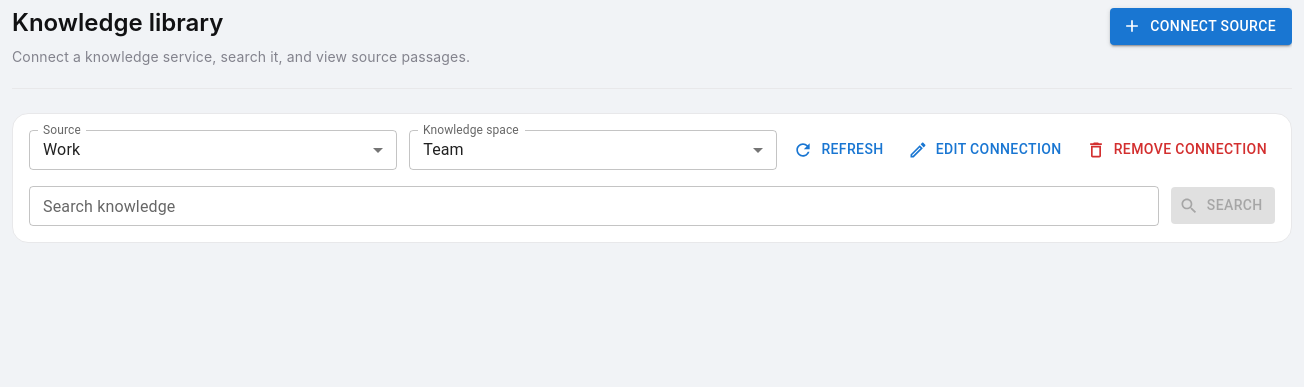
Test: knowledge sources › connects to a saved source and displays its actual search results
Expected: the dropdown "Work" is shown, [43, 140, 80, 159]
Expected: the dropdown "Team" is shown, [423, 140, 464, 159]
Step 1. Type "budget" into the field labelled "Search knowledge" → [594, 206], box [29, 186, 1158, 226]
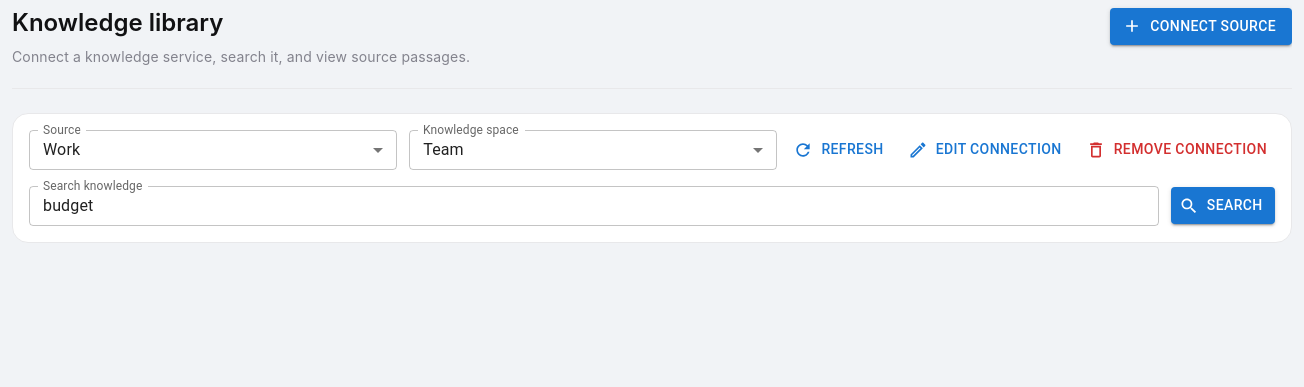
Step 2. Click the button "Search" → [1223, 206], box [1170, 187, 1275, 224]
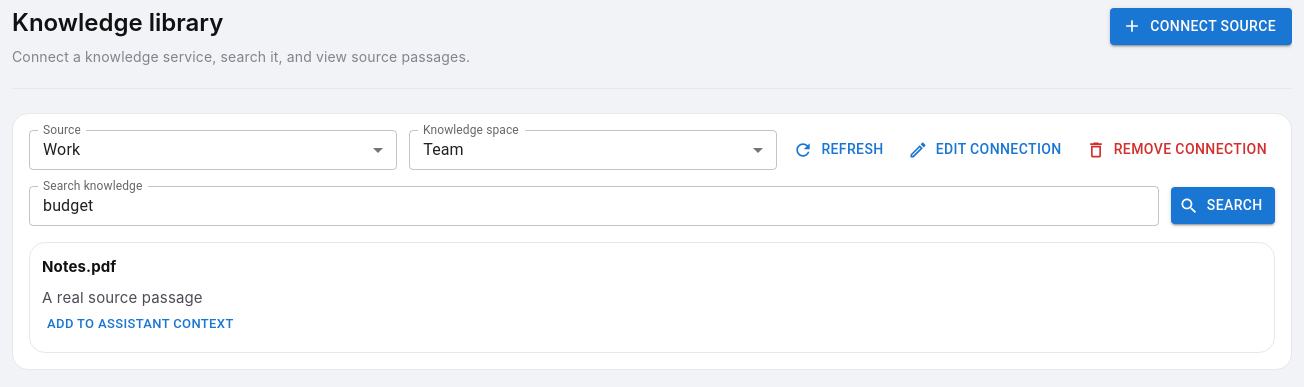
Expected: the text "A real source passage" is shown, [42, 288, 203, 307]
Expected: the text "Notes.pdf" is shown, [42, 257, 116, 276]
